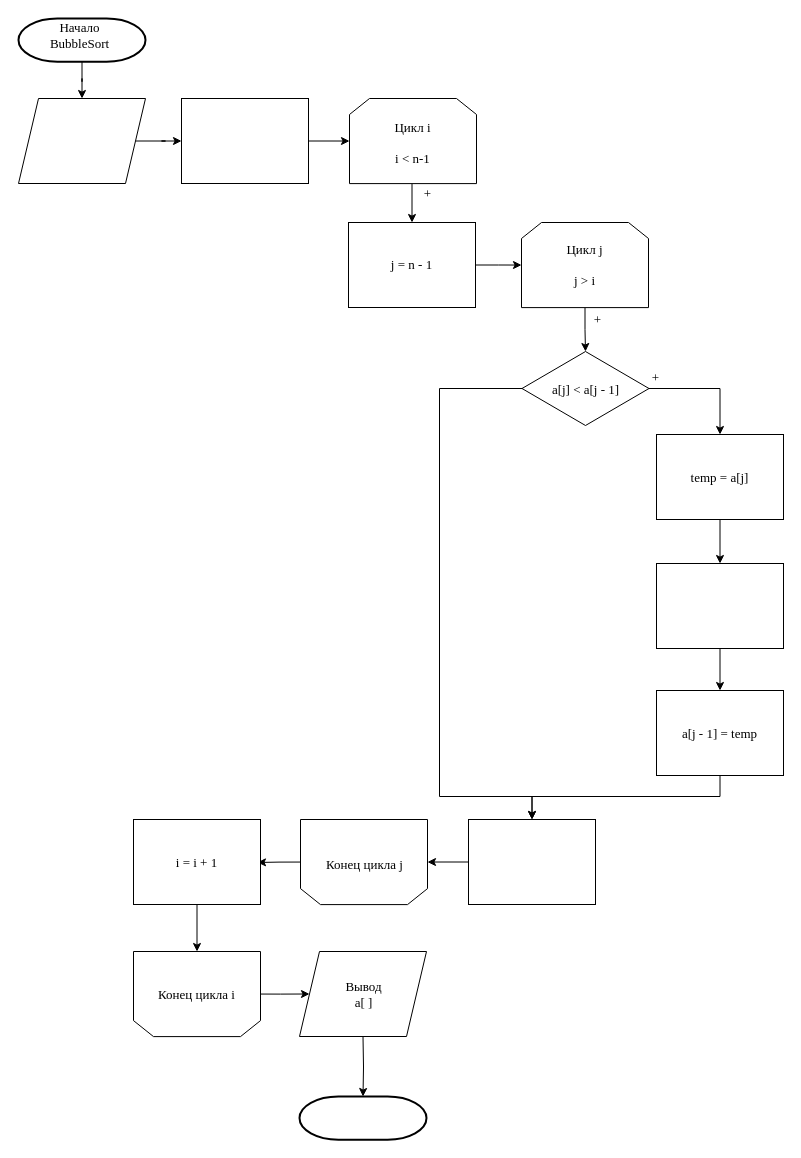
Image size: 801x1158. Some labels were removed from this diagram. The centre of each missing label's shape, as x and y in pixels:
"a[j] = a[j - 1]" goes at [720,605].
"i = 0" goes at [244,141].
"j = j - 1" goes at [532,861].
"Ввод a[ ], n" goes at [82,141].
"Конец" goes at [362,1117].
